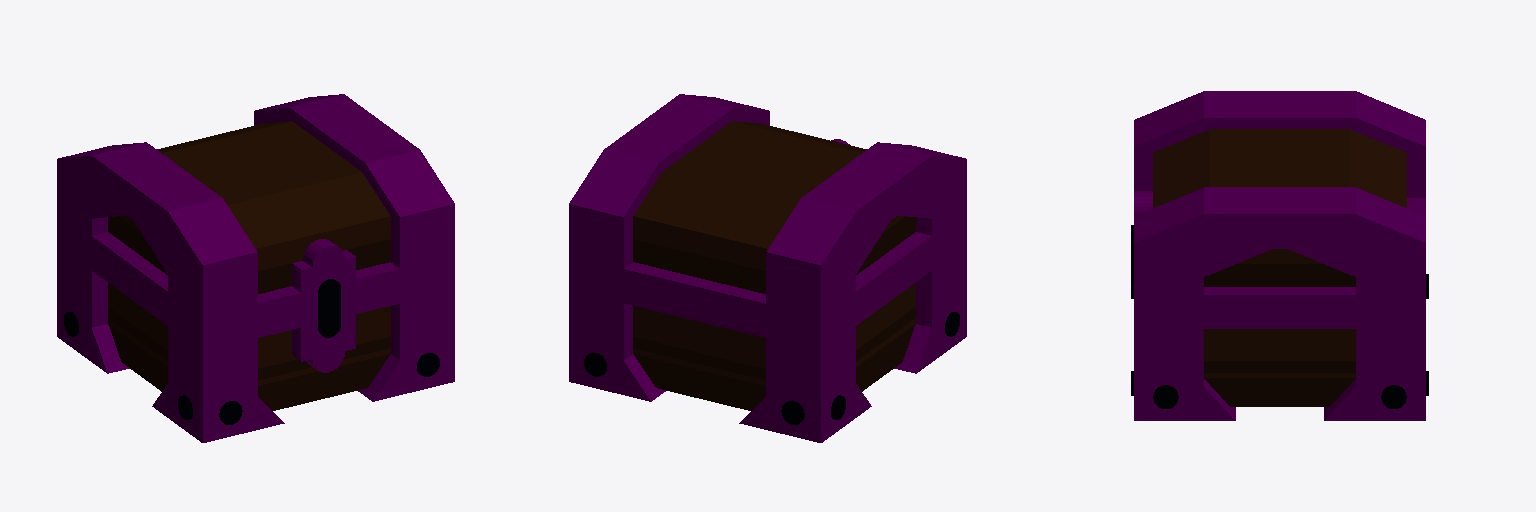
Rendered from chest5.obj.
The picture shows the model from 3 angles: view 1: azimuth 30°, elevation 25°; view 2: azimuth 150°, elevation 25°; view 3: azimuth 270°, elevation 25°; orthographic projection.
Parts seen in each view (by area): view 1: Part14, Part13, Part8, Part27, Wedge18, Part10, Part11, Part28, Part5, Part18, Wedge7, Wedge8 (+12 smaller); view 2: Part27, Part11, Part8, Part12, Wedge5, Part10, Part14, Part9, Part28, Part5, Part7, Wedge1 (+9 smaller); view 3: Part12, Part13, Part28, Part8, Part27, Part10, Part9, Part5, Wedge18, Wedge5, Part7, Wedge2 (+12 smaller).
Boxes of the visible parts, x1,y1,x2,y2 form: Part14: [168, 240, 257, 442]; Part13: [384, 204, 454, 394]; Part8: [162, 121, 360, 204]; Part27: [57, 211, 399, 342]; Wedge18: [228, 172, 389, 248]; Part10: [92, 142, 221, 244]; Part11: [57, 159, 107, 361]; Part28: [289, 94, 419, 175]; Part5: [108, 324, 389, 410]; Part18: [292, 250, 355, 361]; Wedge7: [168, 198, 256, 264]; Wedge8: [365, 150, 454, 216]; Part27: [569, 216, 966, 350]; Part11: [766, 240, 855, 442]; Part8: [663, 121, 861, 204]; Part12: [569, 204, 639, 394]; Wedge5: [634, 172, 795, 248]; Part10: [802, 142, 931, 244]; Part14: [916, 159, 966, 361]; Part9: [633, 283, 915, 368]; Part28: [604, 94, 734, 175]; Part5: [634, 324, 915, 410]; Part7: [633, 216, 915, 293]; Wedge1: [767, 198, 855, 264]; Part12: [1356, 243, 1425, 420]; Part13: [1134, 243, 1203, 420]; Part28: [1204, 187, 1355, 248]; Part8: [1210, 129, 1349, 186]; Part27: [1134, 198, 1425, 328]; Part10: [1204, 91, 1355, 131]; Part9: [1204, 329, 1355, 360]; Part5: [1204, 378, 1355, 406]; Wedge18: [1153, 130, 1209, 207]; Wedge5: [1350, 130, 1406, 207]; Part7: [1204, 264, 1355, 286]; Wedge2: [1356, 188, 1425, 242].
Bounding box in the file's own units: 4.7 × 3.6 × 4.7.